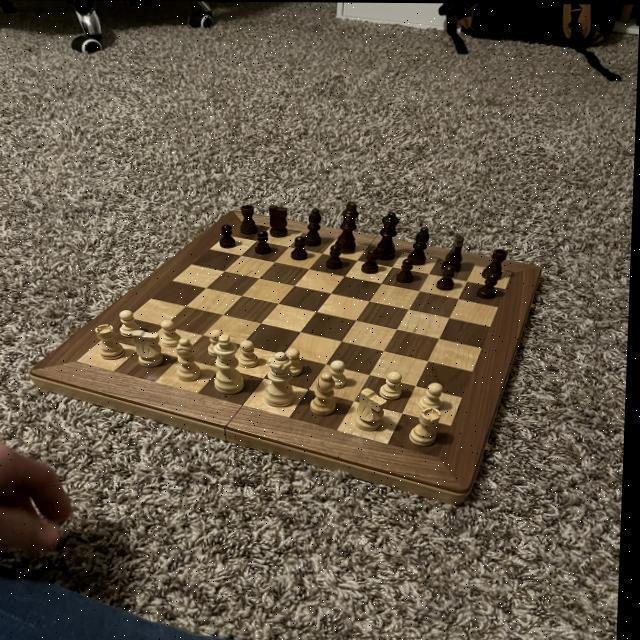bishop: (407, 226, 434, 266), (304, 206, 326, 246)
black-bishop: (333, 199, 365, 255)
black-king: (443, 233, 471, 273), (267, 203, 296, 238)
black-knight: (477, 272, 503, 300), (396, 258, 420, 285), (252, 230, 276, 256), (437, 264, 460, 291), (291, 234, 313, 262), (326, 243, 346, 272), (219, 223, 241, 249), (363, 248, 382, 274)
black-pawn: (373, 209, 402, 261)
black-queen: (484, 245, 511, 282), (239, 203, 262, 235)
black-rook: (171, 338, 206, 382), (310, 371, 343, 417)
white-bishop: (210, 333, 248, 396)
white-king: (355, 387, 394, 434), (132, 329, 169, 368)
white-knight: (420, 380, 452, 412), (378, 369, 407, 401), (208, 327, 234, 358), (240, 337, 264, 370), (328, 357, 352, 390), (119, 310, 147, 338), (160, 318, 186, 348), (285, 346, 306, 378)
white-pawn: (266, 350, 304, 409)
white-queen: (407, 406, 448, 449), (94, 324, 128, 361)
